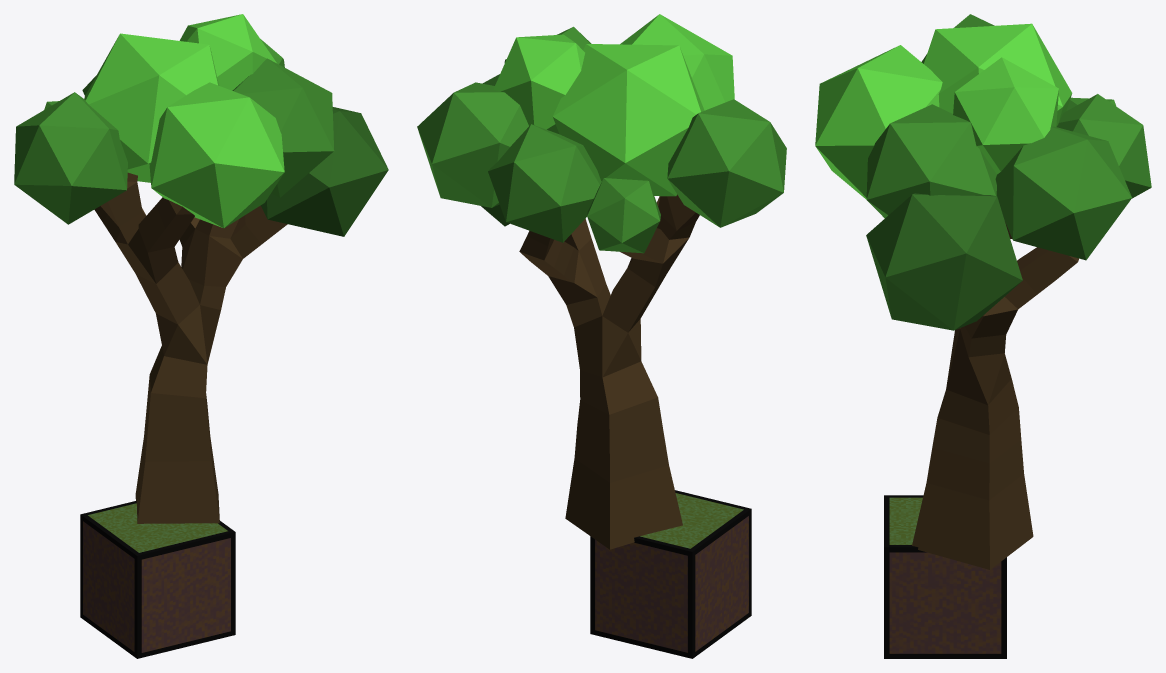
Rendered from TreeMassiveMarsh.glb.
3 renders of one model, left to right at view 1: azimuth 30°, elevation 25°; view 2: azimuth 150°, elevation 25°; view 3: azimuth 270°, elevation 25°, orthographic. The views are drawn at different scales.
Visible parts, largest first — view 1: Tree big, DarkGrass.Baked, Icosphere.011, Icosphere.012, Icosphere.010, Icosphere.016, Icosphere.015, Icosphere.018; view 2: Tree big, DarkGrass.Baked, Icosphere.010, Icosphere.012, Icosphere.017, Icosphere.003, Icosphere.018, Icosphere.013, Icosphere.011; view 3: Tree big, Icosphere.016, DarkGrass.Baked, Icosphere.003, Icosphere.011, Icosphere.015, Icosphere.018, Icosphere.010, Icosphere.017.
Part boxes in pixels (x1=…): Tree big: x1=94, y1=172, x2=287, y2=523; DarkGrass.Baked: x1=80, y1=500, x2=235, y2=658; Icosphere.011: x1=149, y1=82, x2=284, y2=228; Icosphere.012: x1=14, y1=92, x2=127, y2=224; Icosphere.010: x1=84, y1=33, x2=219, y2=182; Icosphere.016: x1=261, y1=107, x2=388, y2=236; Icosphere.015: x1=232, y1=58, x2=334, y2=197; Icosphere.018: x1=179, y1=14, x2=276, y2=90; Tree big: x1=519, y1=194, x2=699, y2=549; DarkGrass.Baked: x1=590, y1=490, x2=751, y2=658; Icosphere.010: x1=552, y1=44, x2=704, y2=196; Icosphere.012: x1=667, y1=99, x2=786, y2=227; Icosphere.017: x1=488, y1=124, x2=601, y2=242; Icosphere.003: x1=417, y1=82, x2=528, y2=207; Icosphere.018: x1=493, y1=34, x2=584, y2=133; Icosphere.013: x1=587, y1=178, x2=660, y2=253; Icosphere.011: x1=620, y1=14, x2=734, y2=110; Tree big: x1=912, y1=222, x2=1078, y2=569; Icosphere.016: x1=866, y1=193, x2=1022, y2=330; DarkGrass.Baked: x1=884, y1=495, x2=1006, y2=658; Icosphere.003: x1=995, y1=126, x2=1131, y2=260; Icosphere.011: x1=815, y1=45, x2=942, y2=199; Icosphere.015: x1=866, y1=104, x2=996, y2=218; Icosphere.018: x1=953, y1=57, x2=1058, y2=174; Icosphere.010: x1=924, y1=23, x2=1072, y2=126; Icosphere.017: x1=1056, y1=94, x2=1151, y2=198.
Bounding box in the file's own units: 3.38 × 5.36 × 2.68.
5 materials, 1 textured.
